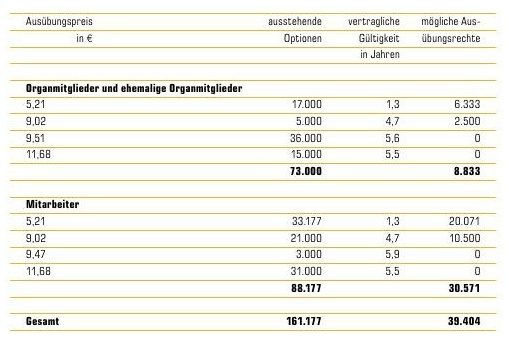table: (0, 0, 507, 340)
